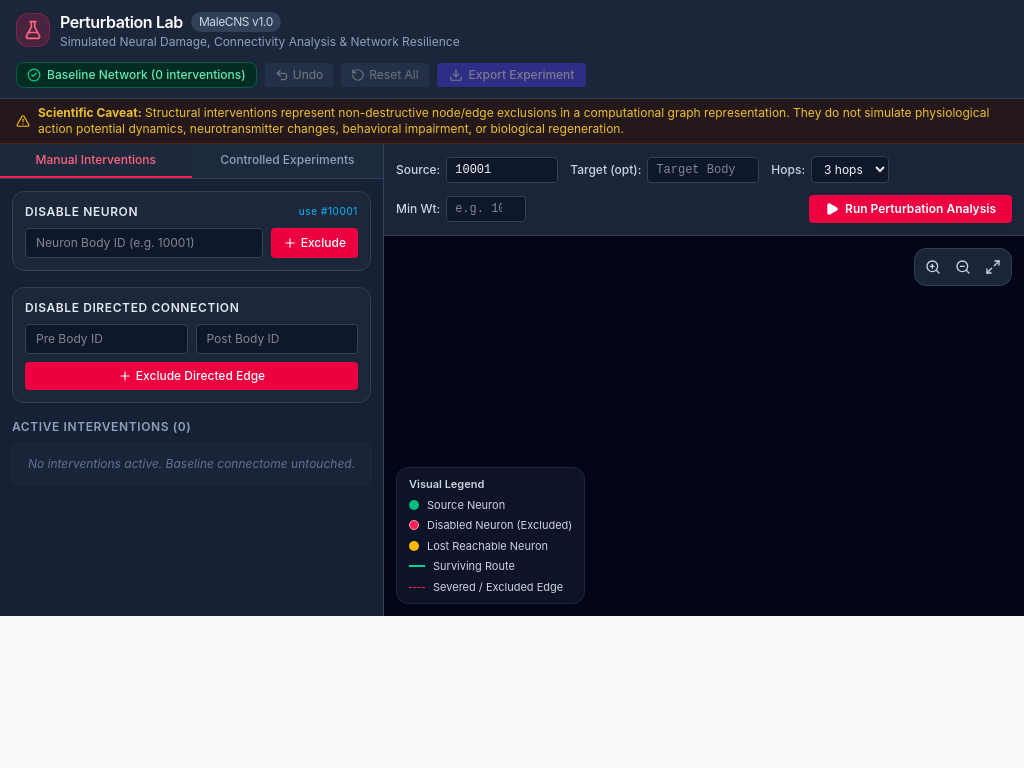
Test: PerturbationLab (V5) Component › runs a controlled experiment and displays results
// Switch to Controlled Experiments tab
Click the button "Controlled Experiments": x=287, y=161 [192, 144, 383, 178]
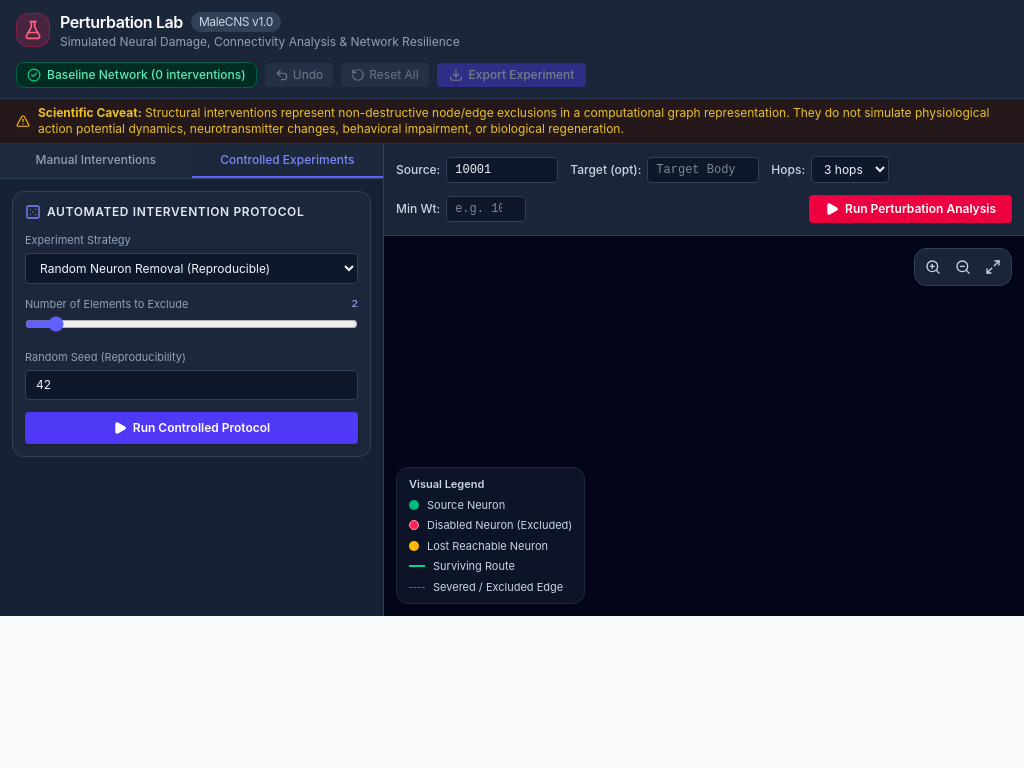
Expected: the heading "Automated Intervention Protocol" is shown, [25, 204, 304, 220]
Click the button "Run Controlled Protocol": x=192, y=428 [25, 412, 358, 444]
(page scrolled)
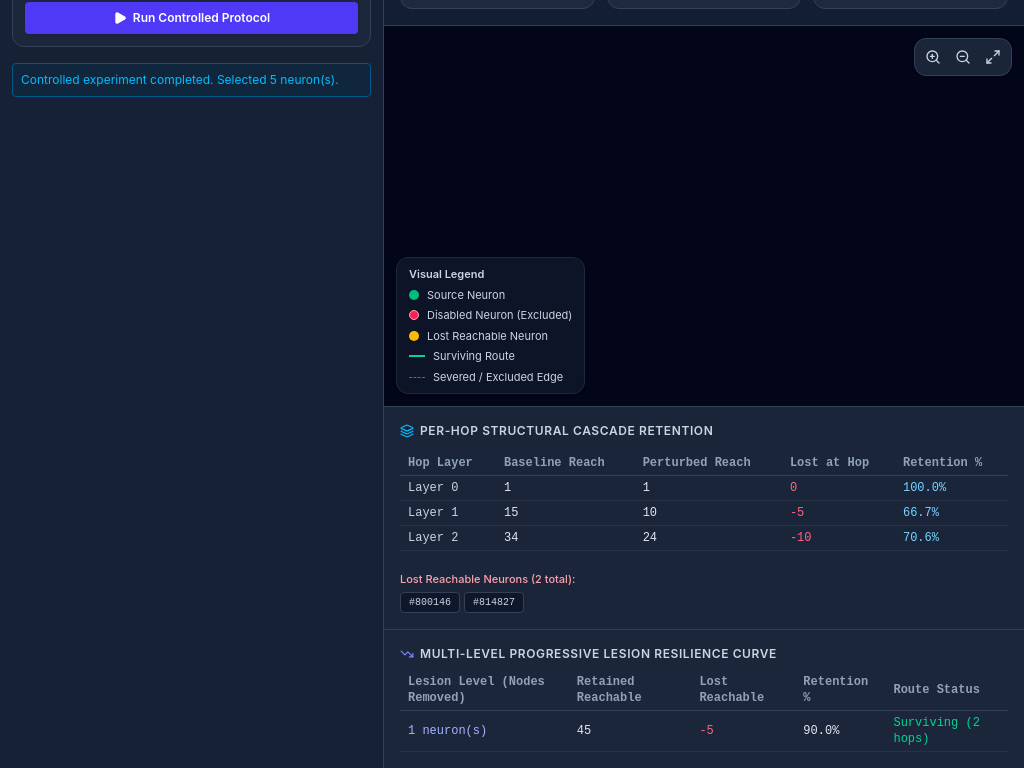
Expected: the heading "Multi-Level Progressive Lesion Resilience Curve" is shown, [400, 646, 777, 660]
